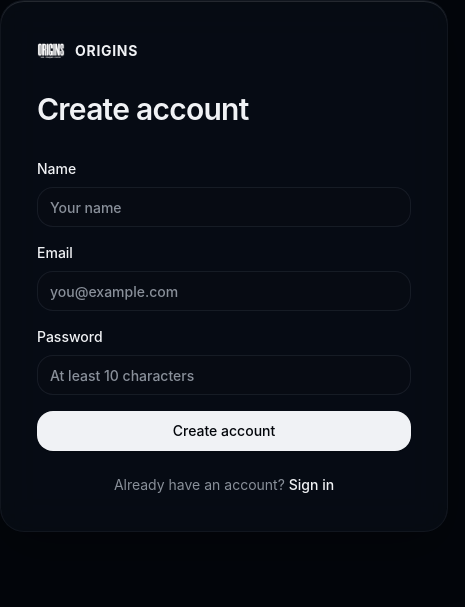
Test case: AuthForm Component Interactive Tests › surfaces 'Password does not meet requirements.' when submitting with a short password
The width and height of the screenshot is (465, 607).
Type "Tejaswin Amara" into the field labelled "Name" at (224,207), box [37,187,411,227]
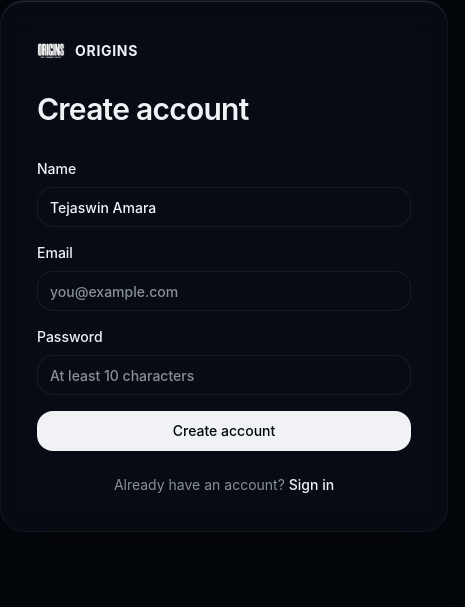
Type "user@example.com" into the field labelled "Email" at (224,291), box [37,271,411,311]
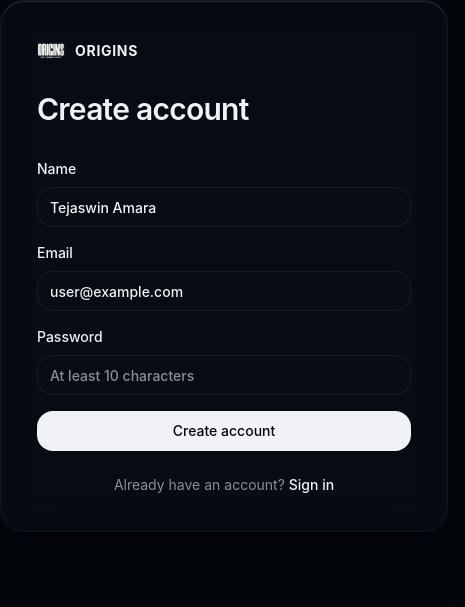
Type "short" into the password field labelled "Password" at (224,375), box [37,355,411,395]
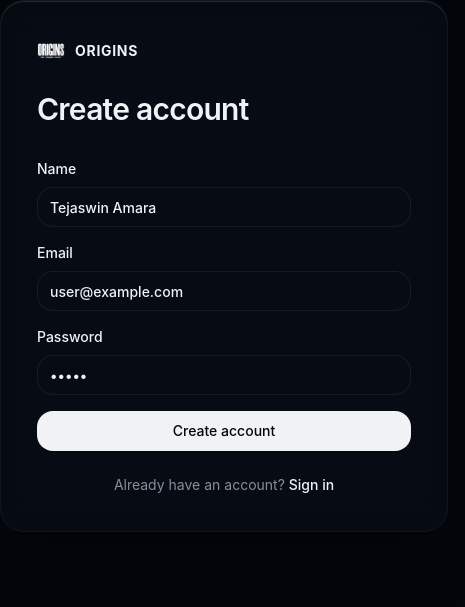
Submit the form from the button "Create account", box [37,411,411,451]
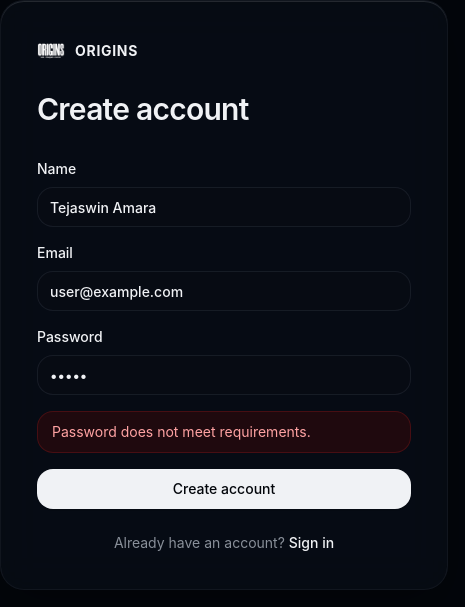
Now the message reads "Password does not meet requirements.", box [52,423,311,440]
